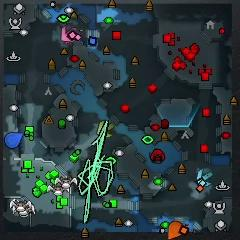p1: (5, 132, 24, 150)
p5: (167, 221, 185, 240)
x1: (60, 26, 80, 43)
x2: (96, 121, 114, 138)
x3: (197, 168, 213, 186)
